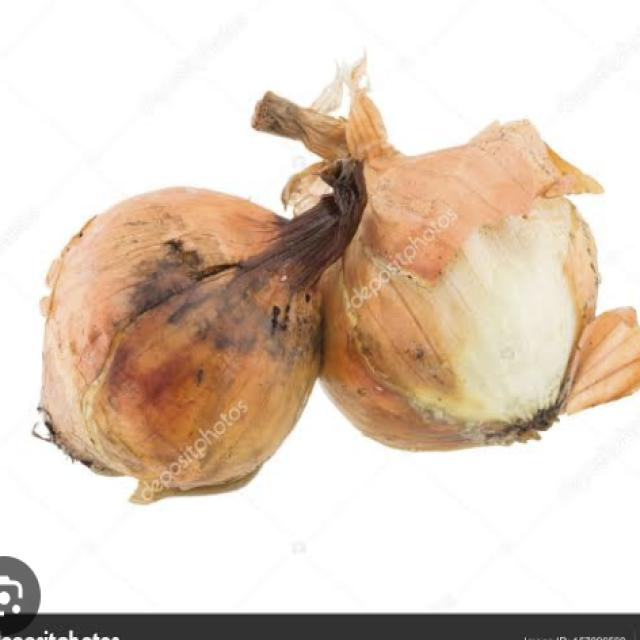mechanical_damage: (41, 160, 362, 499)
